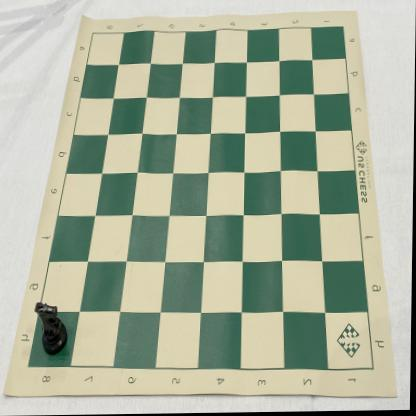black-knight: (35, 302, 69, 356)
